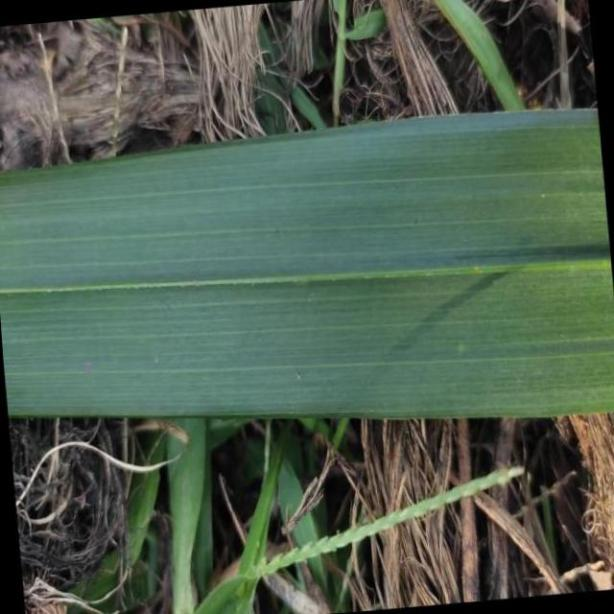Healthy: (0, 110, 614, 416)
